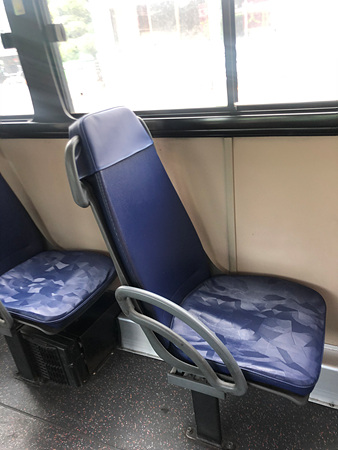seat: (66, 103, 326, 397)
